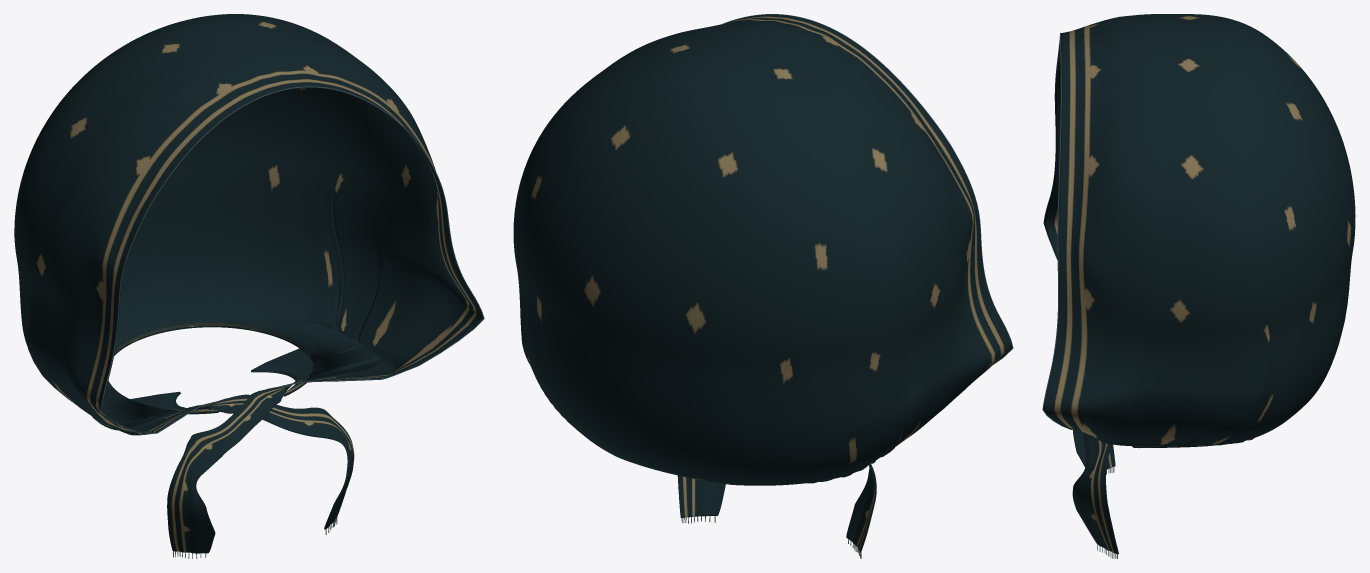
The model's file is Feminine-side-sweep-open-pashmina250-headgear.glb.
3 views of the same model, side by side, from view 1: azimuth 30°, elevation 25°; view 2: azimuth 150°, elevation 25°; view 3: azimuth 270°, elevation 25° (orthographic). The views are drawn at different scales.
Visible parts, largest first — view 1: 226 headgear / Headwear / continuous woven pashmina239, 226 headgear / Headwear / face edge239; view 2: 226 headgear / Headwear / continuous woven pashmina239, 226 headgear / Headwear / face edge239; view 3: 226 headgear / Headwear / continuous woven pashmina239, 226 headgear / Headwear / face edge239.
Boxes of the visible parts, bbox=[...] form: 226 headgear / Headwear / continuous woven pashmina239: bbox=[14, 14, 483, 553]; 226 headgear / Headwear / face edge239: bbox=[101, 86, 484, 433]; 226 headgear / Headwear / continuous woven pashmina239: bbox=[513, 14, 1012, 552]; 226 headgear / Headwear / face edge239: bbox=[723, 14, 1013, 363]; 226 headgear / Headwear / continuous woven pashmina239: bbox=[1043, 14, 1355, 554]; 226 headgear / Headwear / face edge239: bbox=[1042, 33, 1074, 429].
Size of the model in its own units: 1.15 by 1.39 by 0.8116.
3 materials, 1 textured.
